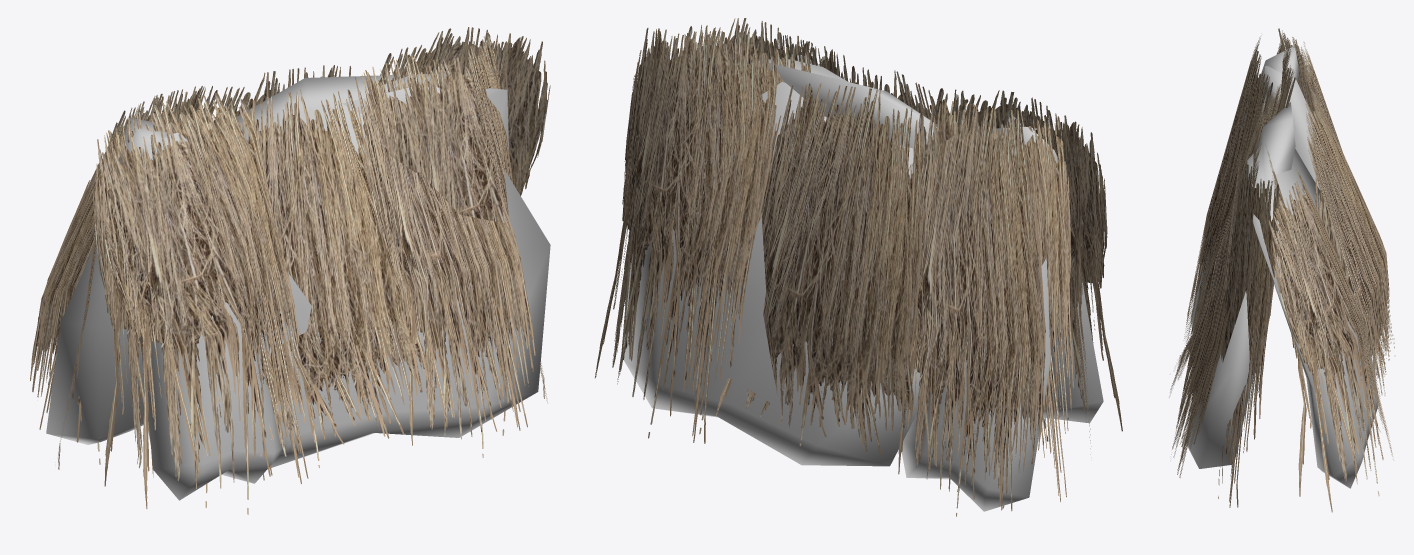
Rendered from jov_rice_rag02b.fbx.
3 views of the same model, side by side, from view 1: azimuth 30°, elevation 25°; view 2: azimuth 150°, elevation 25°; view 3: azimuth 270°, elevation 25° (orthographic). The views are drawn at different scales.
Visible parts, largest first — view 1: jov_rice_rag02b; view 2: jov_rice_rag02b; view 3: jov_rice_rag02b.
Boxes of the visible parts, box(x1,y1,x2,y2) form: jov_rice_rag02b: box(30, 27, 550, 514); jov_rice_rag02b: box(595, 18, 1122, 516); jov_rice_rag02b: box(1169, 28, 1395, 512).
Bounding box in the file's own units: 153 × 121 × 74.98.
